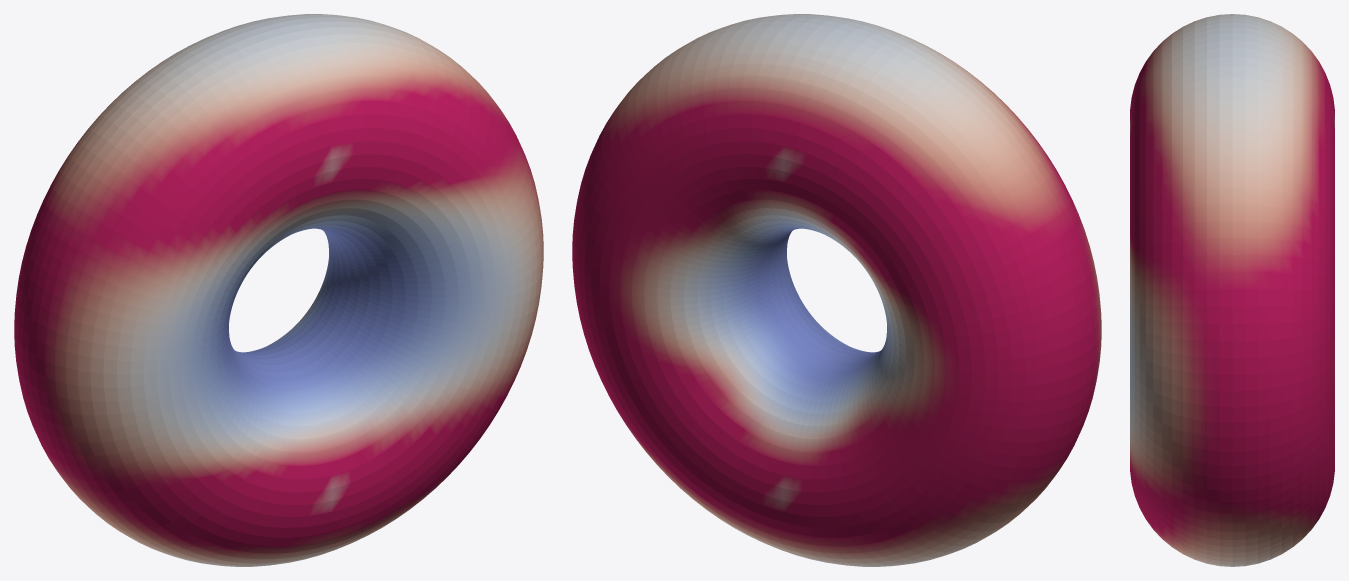
3 renders of one model, left to right at view 1: azimuth 30°, elevation 25°; view 2: azimuth 150°, elevation 25°; view 3: azimuth 270°, elevation 25°, orthographic. The views are drawn at different scales.
Parts seen in each view (by area): view 1: world; view 2: world; view 3: world.
Boxes of the visible parts, bbox=[...] form: world: bbox=[14, 14, 543, 566]; world: bbox=[572, 14, 1101, 566]; world: bbox=[1130, 14, 1334, 566].
Bounding box in the file's own units: 23.33 × 23.33 × 8.65.
